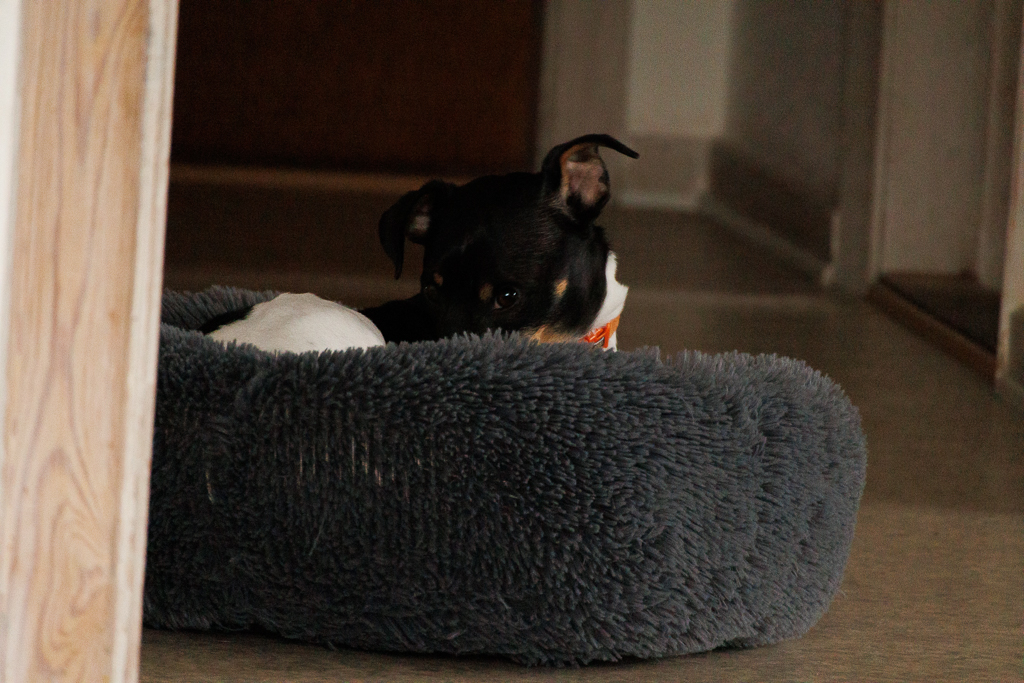Dog: (180, 120, 660, 388)
